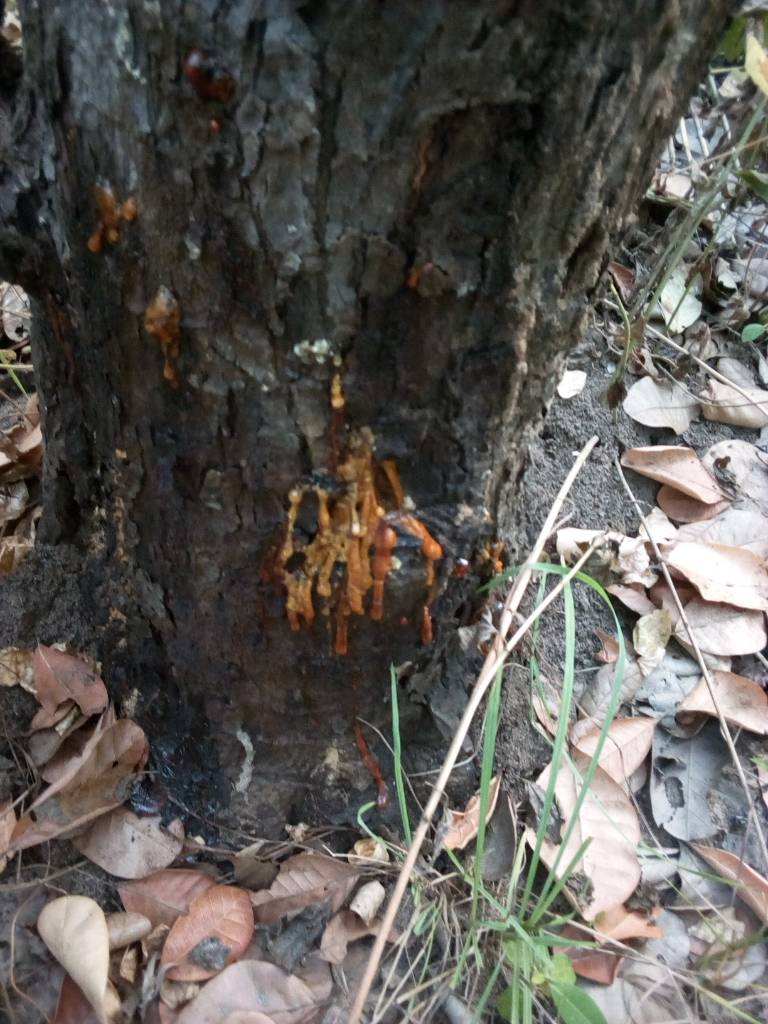Gommose: (86, 64, 513, 692)
